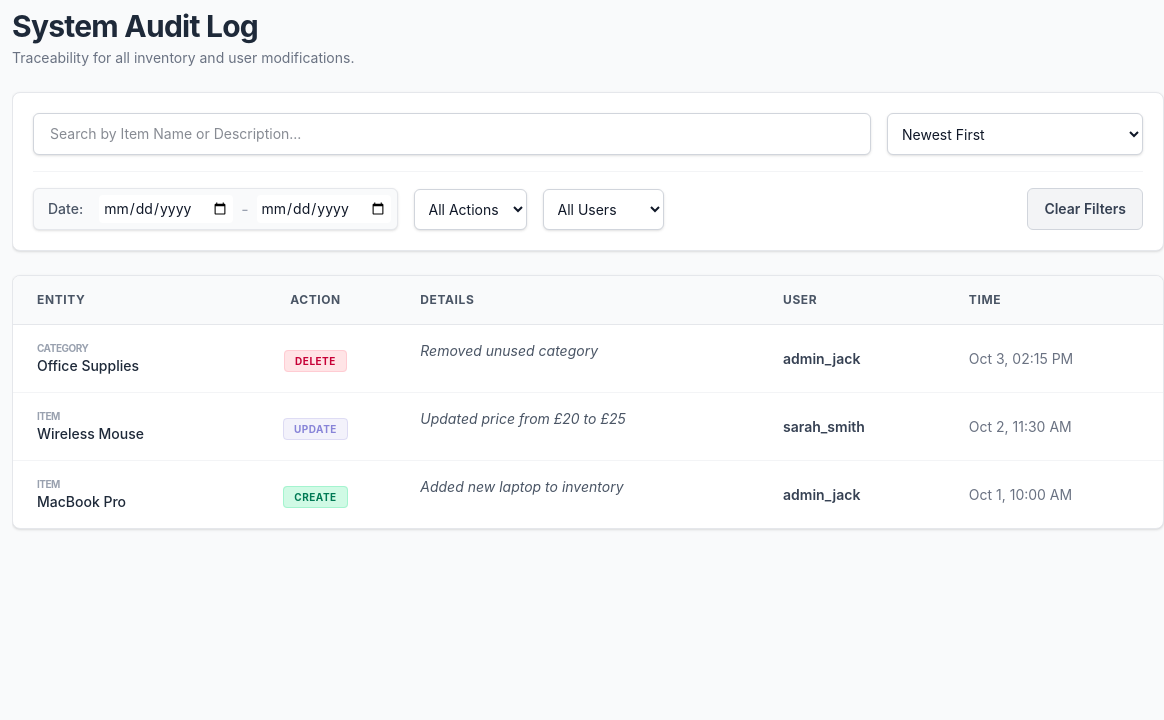
Test case: AuditLog Page › filters logs correctly by Action dropdown
Expected: the text "MacBook Pro" is shown, [37,493,126,510]
Note: Find the Action select dropdown (it defaults to "All Actions")
Select "Delete" in the 2nd dropdown showing "All Actions" at point(470, 209), box [414,188,526,230]
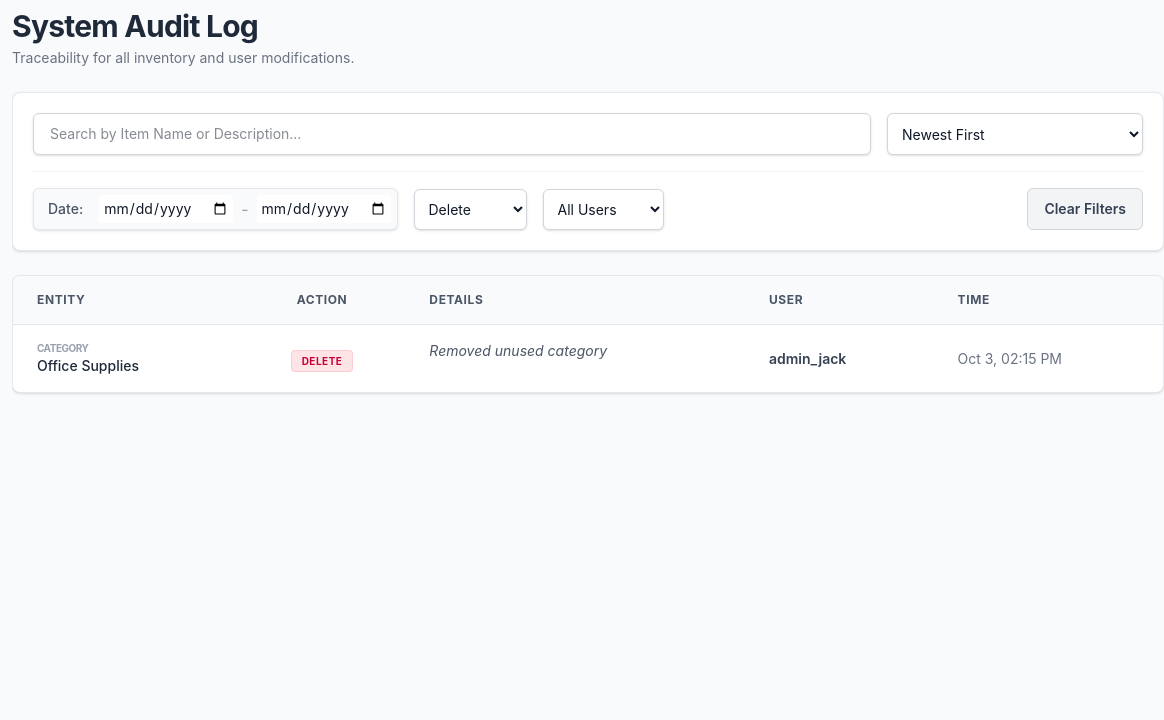
Expected: the text "Office Supplies" is shown, [37,357,139,374]
Expected: the text "MacBook Pro" is gone
Expected: the text "Wireless Mouse" is gone
